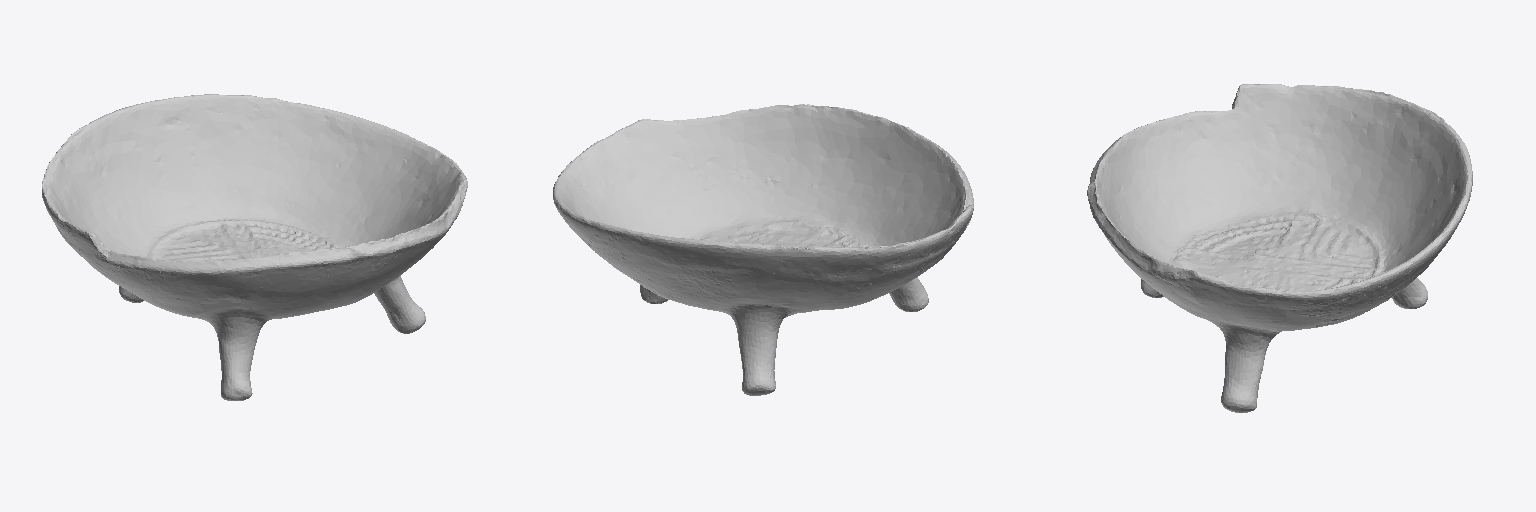
File: PIEZA10.obj
3 views of the same model, side by side, from view 1: azimuth 30°, elevation 25°; view 2: azimuth 150°, elevation 25°; view 3: azimuth 270°, elevation 25° (orthographic).
Visible parts, largest first — view 1: mmGroup0; view 2: mmGroup0; view 3: mmGroup0.
Boxes of the visible parts, x1=… form: mmGroup0: x1=42, y1=94, x2=467, y2=400; mmGroup0: x1=553, y1=104, x2=973, y2=395; mmGroup0: x1=1087, y1=84, x2=1472, y2=412.
Bounding box in the file's own units: 0.799 × 0.3709 × 0.7044.